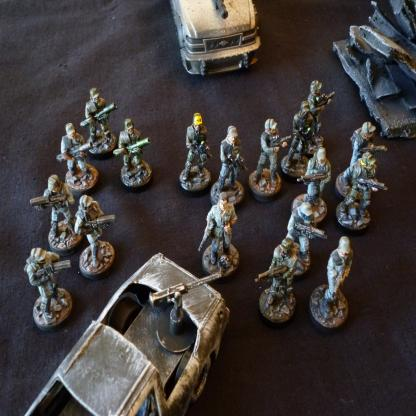Car: (21, 253, 235, 416), (166, 1, 261, 77)
